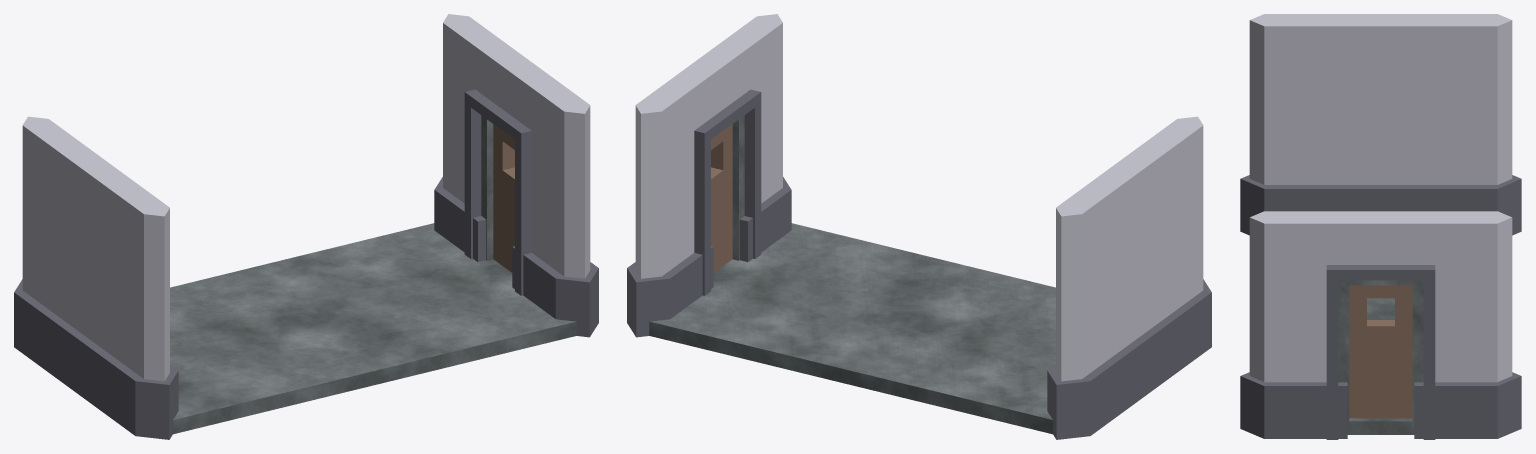
Rendered from hallway_short_09.fbx.
The picture shows the model from 3 angles, left to right: view 1: azimuth 30°, elevation 25°; view 2: azimuth 150°, elevation 25°; view 3: azimuth 270°, elevation 25°; orthographic projection. The views are drawn at different scales.
Parts seen in each view (by area): view 1: floor_04_108, wall_01_110, door_02_107; view 2: floor_04_108, wall_01_110, door_02_107; view 3: door_02_107, wall_01_110, floor_04_108.
Boxes of the visible parts, box(x1,y1,x2,y2) form: floor_04_108: box(170, 223, 576, 434); wall_01_110: box(14, 116, 178, 439); door_02_107: box(434, 14, 598, 337); floor_04_108: box(649, 223, 1055, 434); wall_01_110: box(1047, 116, 1211, 439); door_02_107: box(627, 14, 791, 337); door_02_107: box(1240, 211, 1521, 439); wall_01_110: box(1240, 14, 1521, 235); floor_04_108: box(1347, 298, 1412, 434).
Size of the model in its own units: 22.15 by 10 by 12.05.
